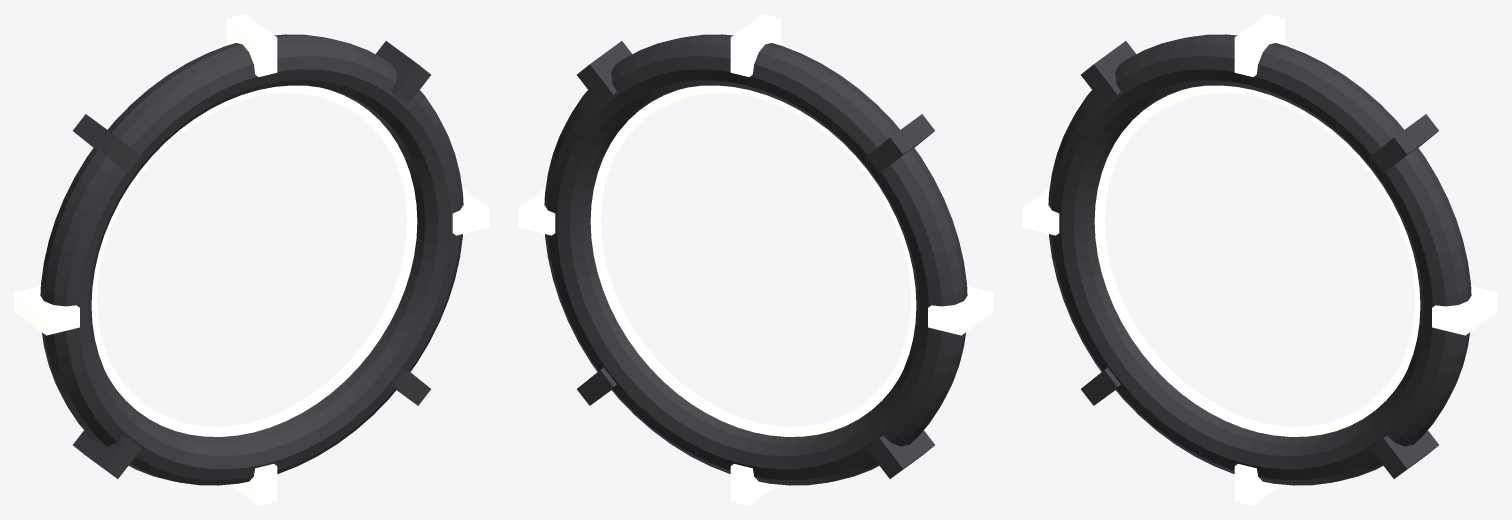
File: OS_LaunchGate.fbx
The picture shows the model from 3 angles, left to right: view 1: azimuth 30°, elevation 25°; view 2: azimuth 150°, elevation 25°; view 3: azimuth 330°, elevation 25°; orthographic projection.
Parts seen in each view (by area): view 1: OS_LaunchGate; view 2: OS_LaunchGate; view 3: OS_LaunchGate.
Part boxes in pixels (box(x1,y1,x2,y2)): OS_LaunchGate: box(14, 14, 489, 505); OS_LaunchGate: box(518, 14, 993, 505); OS_LaunchGate: box(1022, 14, 1497, 505).
Size of the model in its own units: 2.38 by 0.3 by 2.38.
